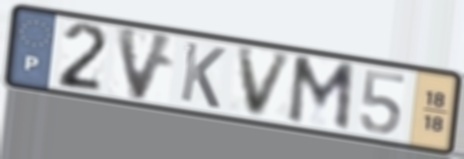2: (55, 21, 110, 94)
5: (357, 67, 408, 136)
K: (177, 39, 229, 112)
M: (284, 53, 358, 135)
V: (114, 23, 179, 105), (234, 46, 297, 119)
